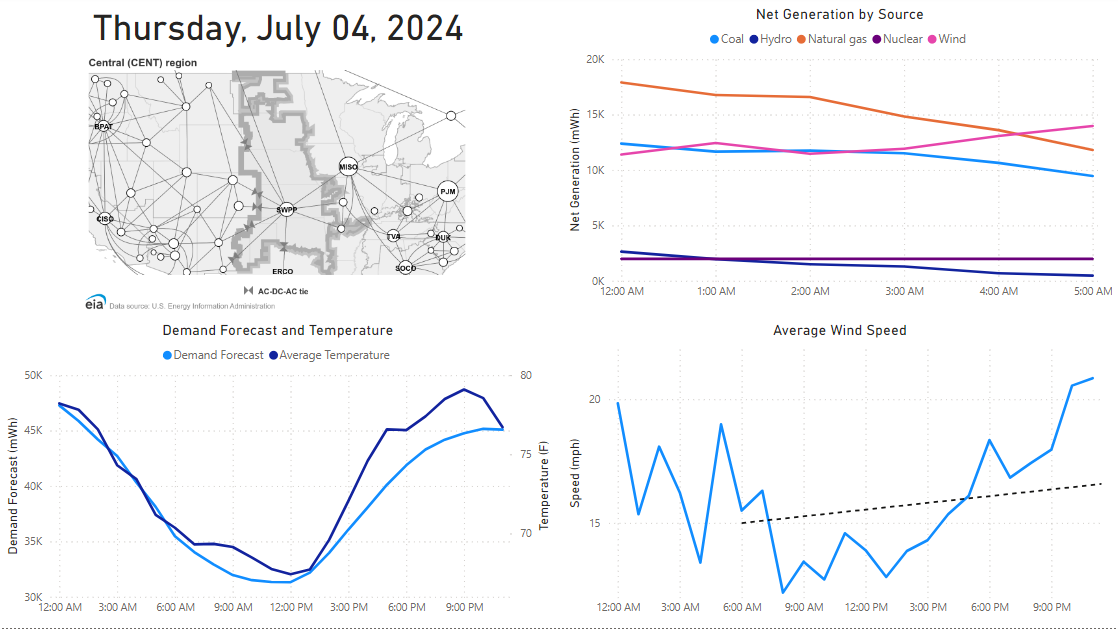

This screenshot's page, from the dashboard's own definition file:
{"tool":"powerbi","page":{"name":"LoadTempGen","canvas":[1280,720],"ordinal":0},"visuals":[{"type":"lineChart","title":"Demand Forecast and Temperature","fields":{"Category":["Time.Time"],"Y":["Avg(MultiDayDF.DemandForecast)"],"Y2":["Avg(MultiDayWeather.Temp)"]},"box":[0,359.9,640,359.9],"z":0},{"type":"lineChart","title":"Net Generation by Source","fields":{"Category":["HourlyNetGen.Time"],"Y":["Avg(HourlyNetGen.value)"],"Series":["HourlyNetGen.type-name"]},"box":[640,0,640,359.9],"z":1000},{"type":"lineChart","title":"Average Wind Speed","fields":{"Category":["MultiDayWeather.Time"],"Y":["Avg(MultiDayWeather.WindSpeed)"]},"box":[640,359.9,640,359.9],"z":2000},{"type":"card","fields":{"Values":["Min(DateTable.Day)"]},"box":[0,0,640.2,63.8],"z":3000},{"type":"image","box":[0,63.8,640.2,296.2],"z":4000}]}

Visuals, with their boxes in screenshot pixels (x1, y1, x2, y2), scaled from the page's 1280x720 canvas onto the 1118x629 screenshot:
"Demand Forecast and Temperature" lineChart: x1=0, y1=314, x2=559, y2=628
"Net Generation by Source" lineChart: x1=559, y1=0, x2=1117, y2=314
"Average Wind Speed" lineChart: x1=559, y1=314, x2=1117, y2=628
card - Min(DateTable.Day): x1=0, y1=0, x2=559, y2=56
image: x1=0, y1=56, x2=559, y2=314
